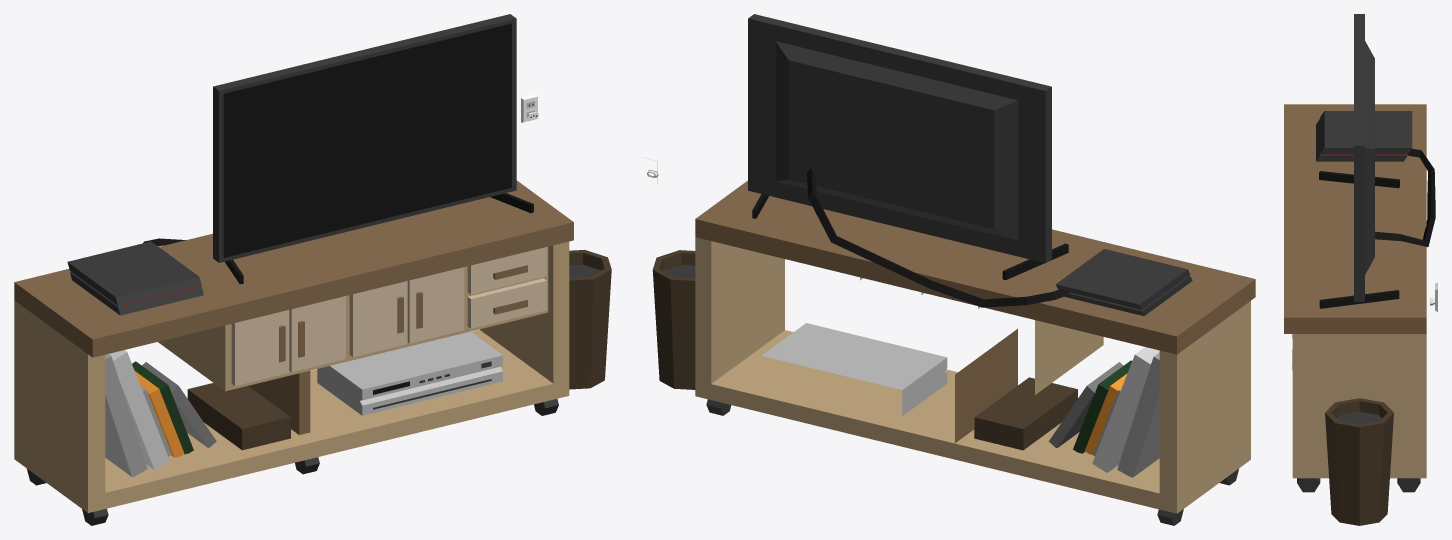
File: TvRack2.glb
The picture shows the model from 3 angles, left to right: view 1: azimuth 30°, elevation 25°; view 2: azimuth 150°, elevation 25°; view 3: azimuth 270°, elevation 25°; orthographic projection. The views are drawn at different scales.
Visible parts, largest first — view 1: TvRack2; view 2: TvRack2; view 3: TvRack2.
Part boxes in pixels (x1,y1,x2,y2): TvRack2: [14, 14, 611, 525]; TvRack2: [642, 14, 1255, 525]; TvRack2: [1284, 14, 1437, 525].
Bounding box in the file's own units: 3.29 × 2.13 × 0.868.
1 material, 1 textured.
